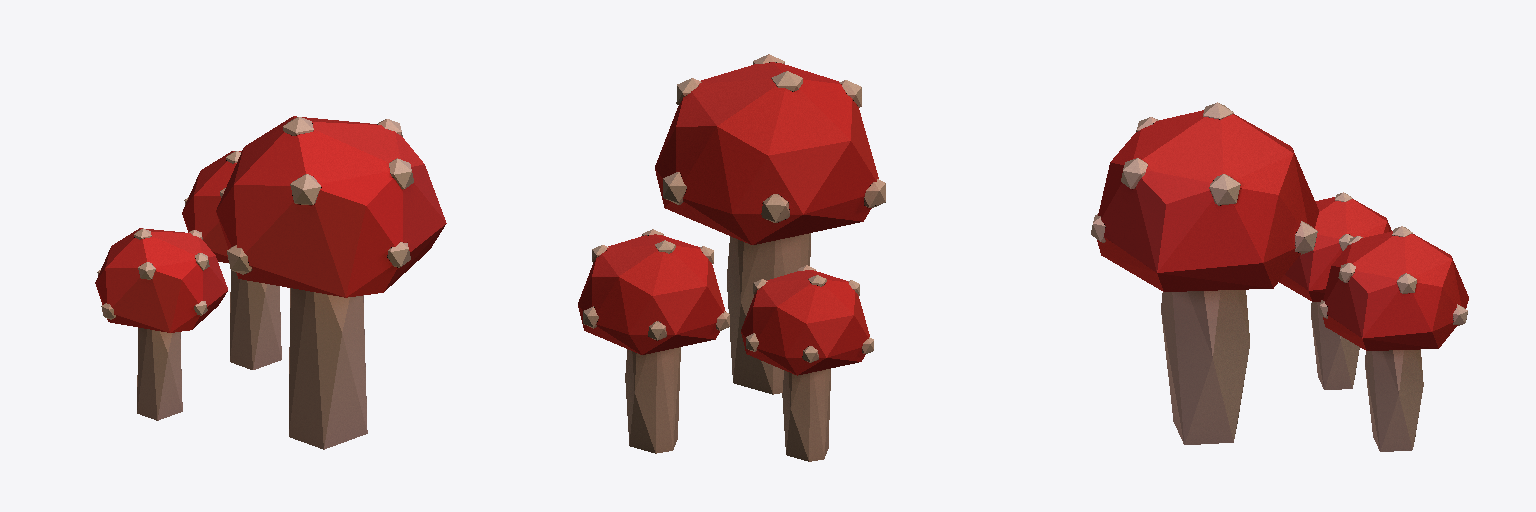
The picture shows the model from 3 angles: view 1: azimuth 30°, elevation 25°; view 2: azimuth 150°, elevation 25°; view 3: azimuth 270°, elevation 25°; orthographic projection.
Parts seen in each view (by area): view 1: Mushroom1_Icosphere.002, Mushroom1_Icosphere.005, Mushroom1_Icosphere.001; view 2: Mushroom1_Icosphere.002, Mushroom1_Icosphere.001, Mushroom1_Icosphere.005; view 3: Mushroom1_Icosphere.002, Mushroom1_Icosphere.001, Mushroom1_Icosphere.005.
Part boxes in pixels (x1,y1,x2,y2): Mushroom1_Icosphere.002: (216, 116, 446, 449); Mushroom1_Icosphere.005: (95, 228, 227, 420); Mushroom1_Icosphere.001: (182, 151, 281, 369); Mushroom1_Icosphere.002: (655, 54, 885, 394); Mushroom1_Icosphere.001: (578, 229, 729, 453); Mushroom1_Icosphere.005: (741, 265, 873, 461); Mushroom1_Icosphere.002: (1091, 102, 1318, 444); Mushroom1_Icosphere.001: (1319, 226, 1468, 451); Mushroom1_Icosphere.005: (1279, 192, 1391, 389).
Size of the model in its own units: 0.7778 by 0.9165 by 0.9864.
Materials: 6 (1 with a texture image).